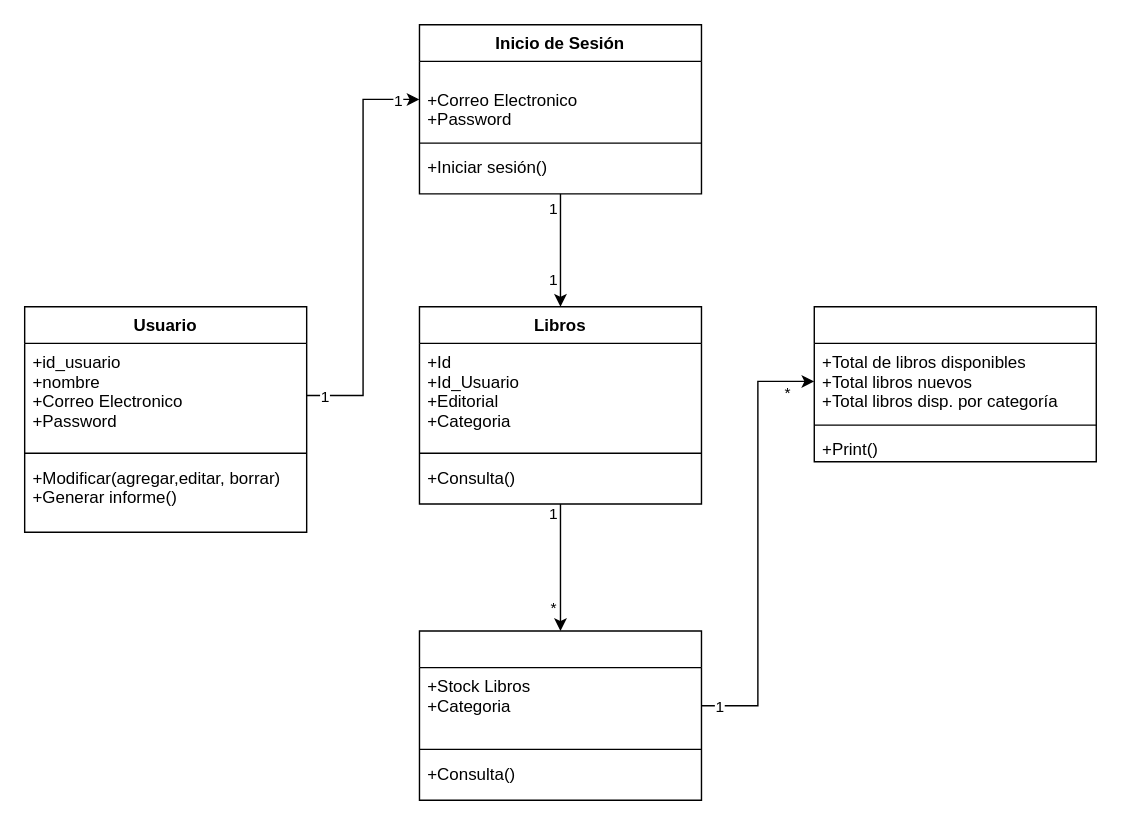
Some shapes in this 1121 by 829 pixel diagram are drawn without their labels. Each missing label, with the box of its shape:
Informe: (813, 305, 1096, 462)
Inventario: (418, 630, 701, 800)
